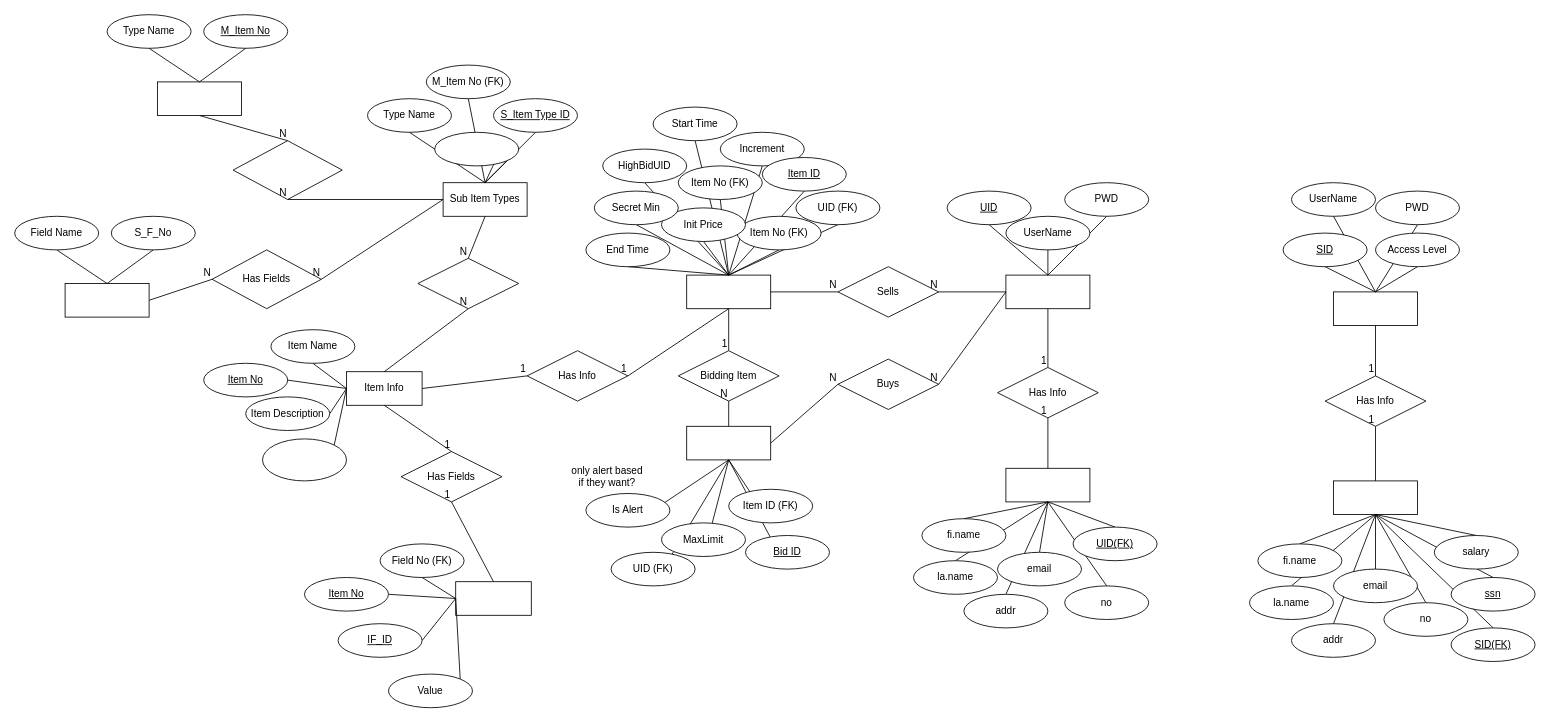
Some shapes in this 1550 by 722 pixel diagram are drawn without their labels. The shapes that lost their labels are listed below. From the top down, each one's centre as x and y in pixels, then its label:
At [199,98]: "Item Types".
At [476,148]: "Fields IDs".
At [287,170]: "Contains Sub Types".
At [106,300]: "Sub_Fields".
At [468,283]: "Contains Types".
At [728,291]: "Auction".
At [1047,291]: "User".
At [1375,308]: "Staff".
At [304,459]: "S_Item Type ID (FK)".
At [728,442]: "Bids".
At [1047,484]: "Info".
At [1375,497]: "Staff Info".
At [493,598]: "Item Fields".
